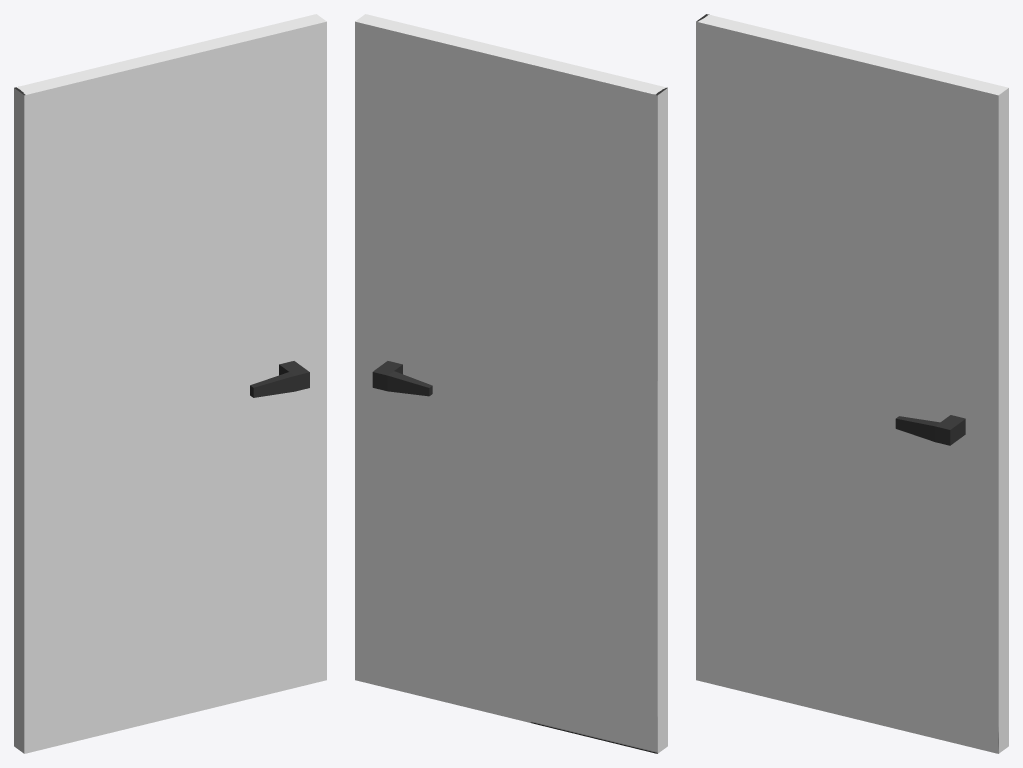
Rendered from drzwi.glb.
3 views of the same model, side by side, from view 1: azimuth 30°, elevation 25°; view 2: azimuth 150°, elevation 25°; view 3: azimuth 330°, elevation 25° (orthographic).
Visible parts, largest first — view 1: Cube.059; view 2: Cube.059; view 3: Cube.059.
Boxes of the visible parts, box(x1,y1,x2,y2) form: Cube.059: box(14, 14, 326, 753); Cube.059: box(355, 14, 667, 753); Cube.059: box(696, 14, 1008, 753).
Bounding box in the file's own units: 2.57 × 5.35 × 0.608.
1 material, 1 textured.
